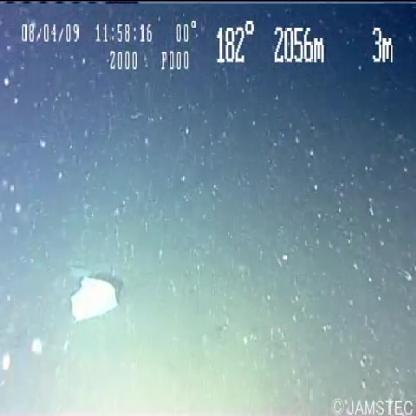Rác: (59, 264, 134, 328)
